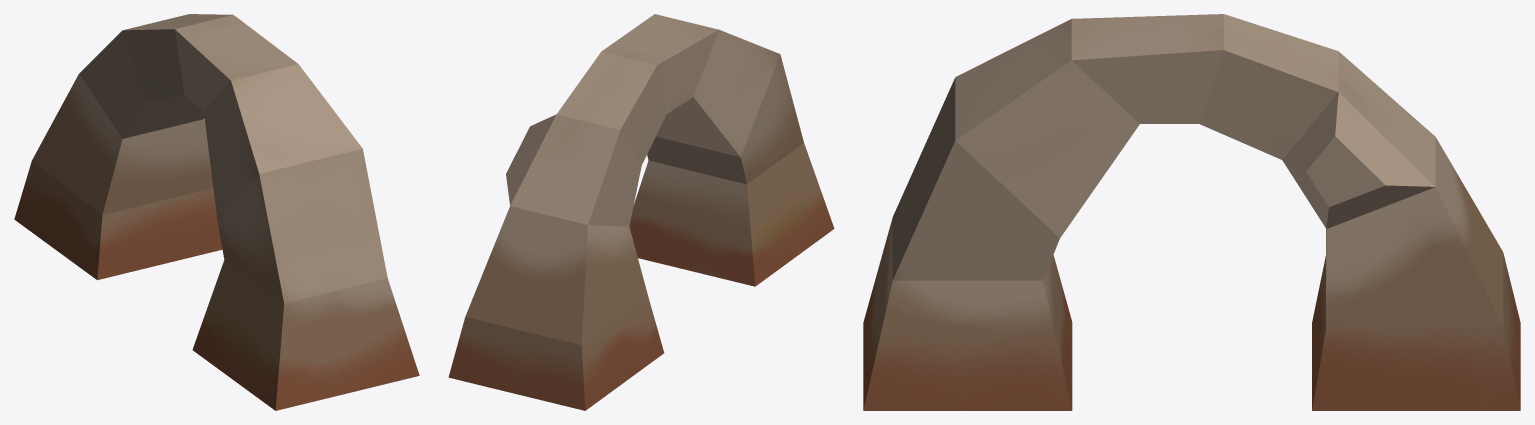
Rendered from arch.fbx.
3 renders of one model, left to right at view 1: azimuth 30°, elevation 25°; view 2: azimuth 150°, elevation 25°; view 3: azimuth 270°, elevation 25°, orthographic. The views are drawn at different scales.
Visible parts, largest first — view 1: Cube; view 2: Cube; view 3: Cube.
Part boxes in pixels (left/top/right/bottom): Cube: left=14, top=14, right=419, bottom=410; Cube: left=448, top=14, right=834, bottom=410; Cube: left=863, top=14, right=1520, bottom=410.
Bounding box in the file's own units: 200 × 353 × 629.
Materials: 1 (1 with a texture image).
